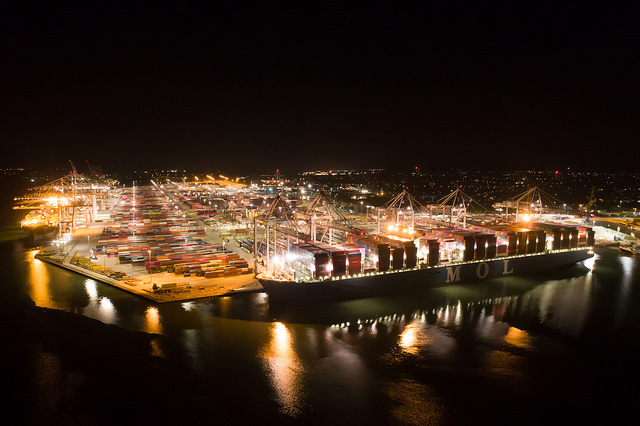container_ship: (261, 223, 596, 301)
